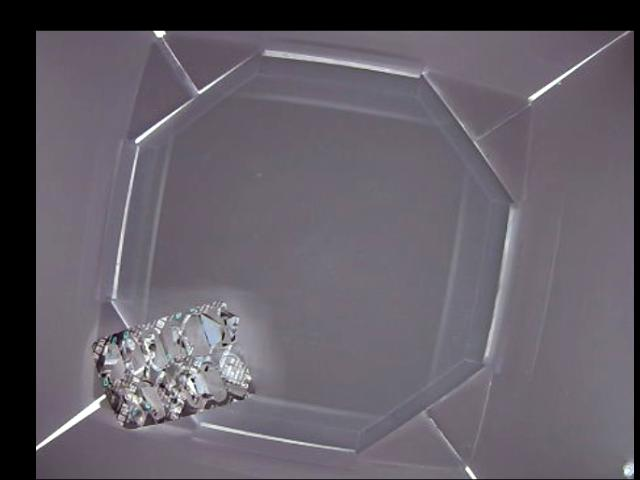Medicine: (92, 299, 253, 429)
